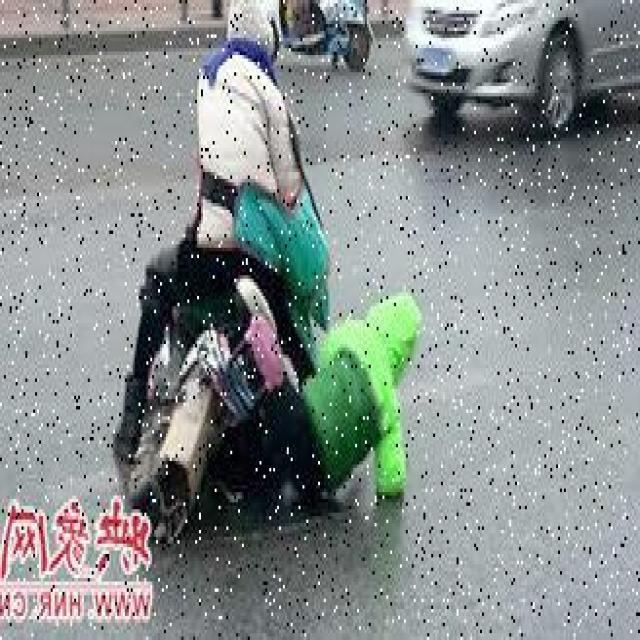fall: (234, 286, 429, 526)
